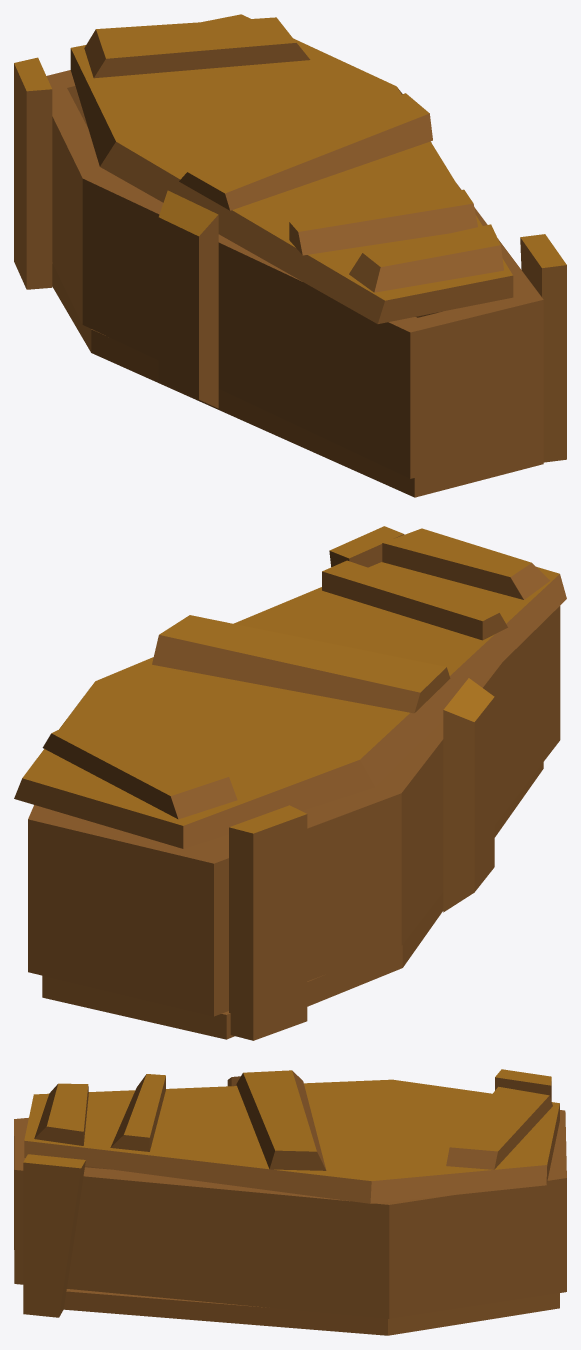
The model's file is caixao_base_001.fbx.
The picture shows the model from 3 angles, top to bottom: view 1: azimuth 30°, elevation 25°; view 2: azimuth 150°, elevation 25°; view 3: azimuth 270°, elevation 25°; orthographic projection. The views are drawn at different scales.
Parts seen in each view (by area): view 1: caixao_base.001; view 2: caixao_base.001; view 3: caixao_base.001.
Part boxes in pixels (<box>): caixao_base.001: <box>14,14,566,497</box>; caixao_base.001: <box>14,526,566,1040</box>; caixao_base.001: <box>14,1069,566,1335</box>.
Bounding box in the file's own units: 175 × 117 × 338.
